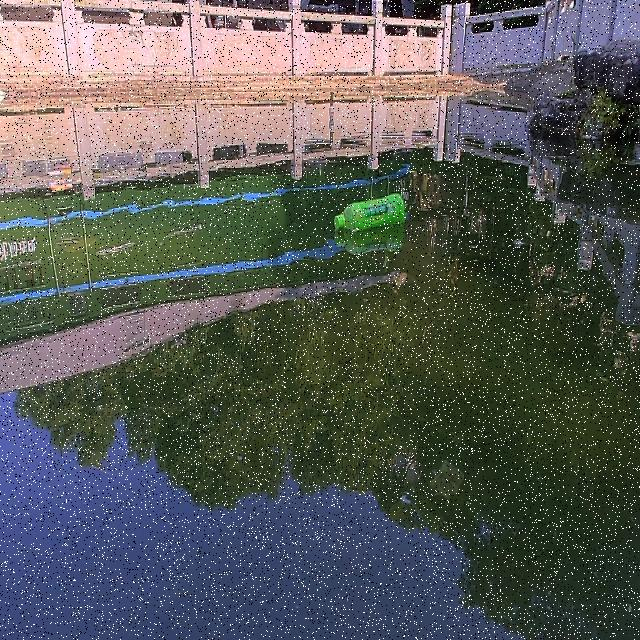Bottle: (329, 189, 408, 236)
